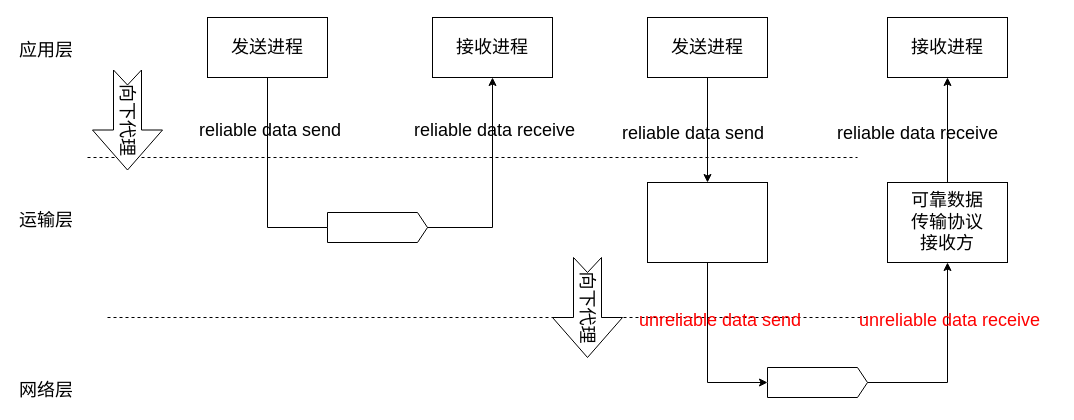
Image size: 1074x420. Some labels were removed from this diagram. Here are the shapes that lost their labels. From the top down, the centre of each, then its label:
the point at 377,227: 可靠信道
the point at 707,222: 可靠数据 传输协议 发送方
the point at 817,382: 不可靠信道
